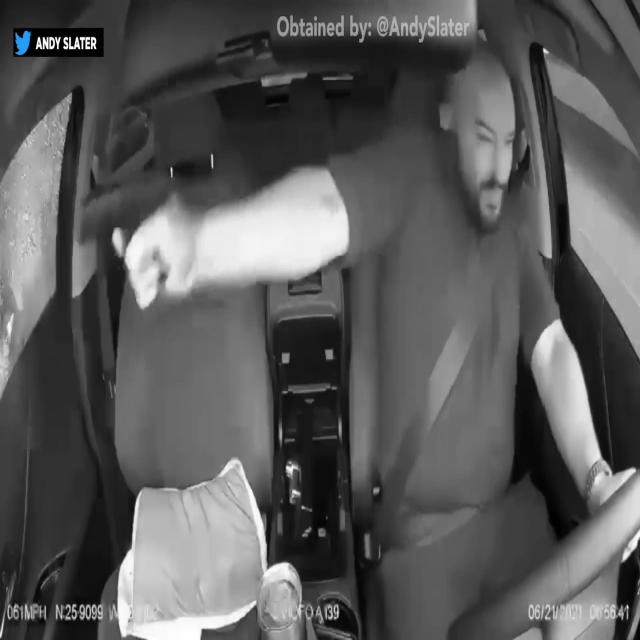senjata_api: (78, 160, 173, 261)
